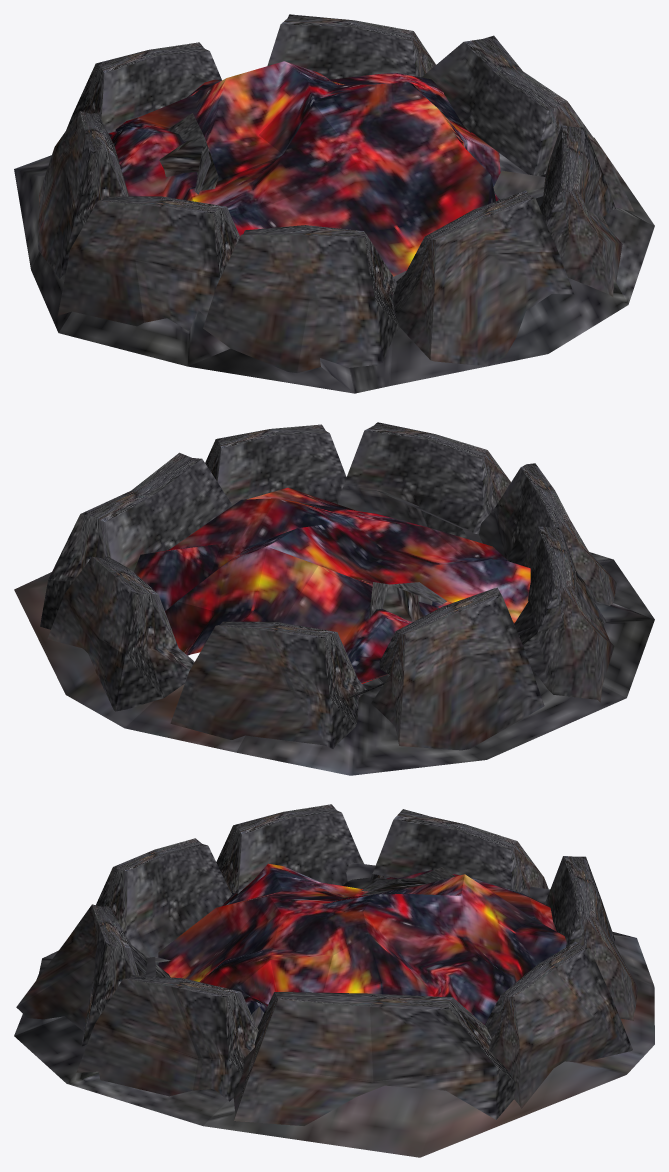
File: hearth.glb
3 views of the same model, one above another, from view 1: azimuth 30°, elevation 25°; view 2: azimuth 150°, elevation 25°; view 3: azimuth 270°, elevation 25° (orthographic). The views are drawn at different scales.
Visible parts, largest first — view 1: Icosphere, Icosphere.001; view 2: Icosphere, Icosphere.001; view 3: Icosphere, Icosphere.001.
Part boxes in pixels (x1,y1,x2,y2): Icosphere: [14, 14, 654, 393]; Icosphere.001: [108, 61, 500, 276]; Icosphere: [14, 422, 654, 775]; Icosphere.001: [134, 487, 530, 683]; Icosphere: [14, 804, 654, 1157]; Icosphere.001: [158, 863, 566, 1024].
Size of the model in its own units: 2.88 by 0.7503 by 2.81.
Materials: 2 (2 with a texture image).
